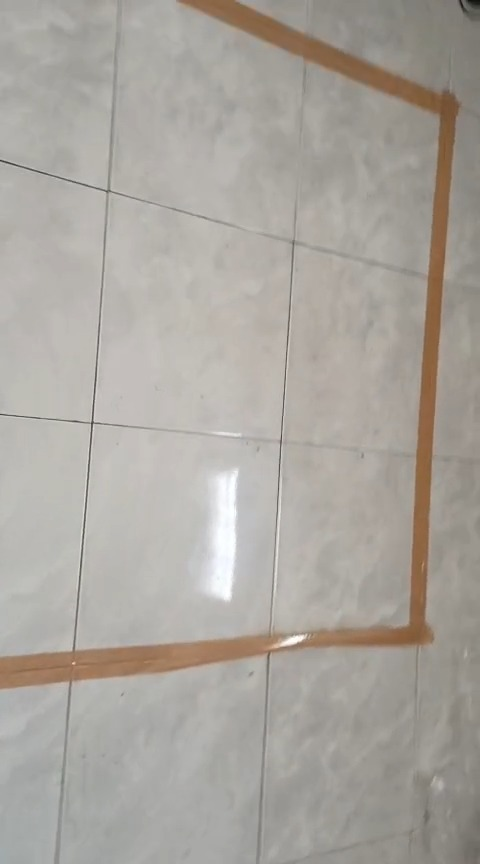floor marking: (0, 0, 457, 688)
